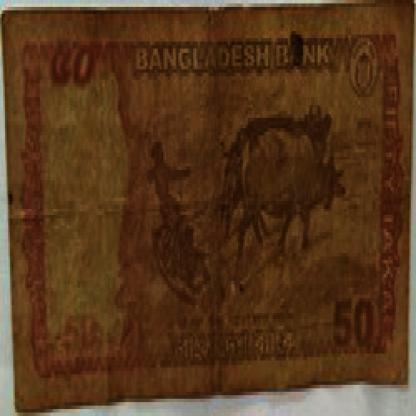Fifty taka: (321, 274, 388, 371), (48, 35, 102, 97)
